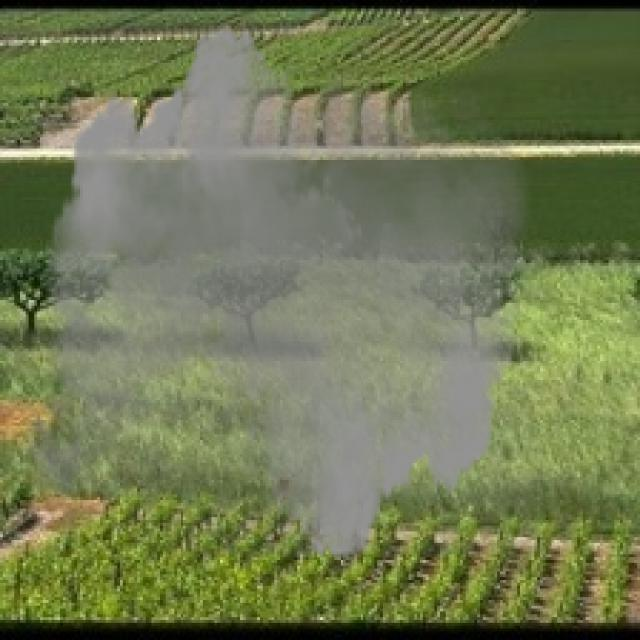Smoke: (8, 9, 543, 578)
